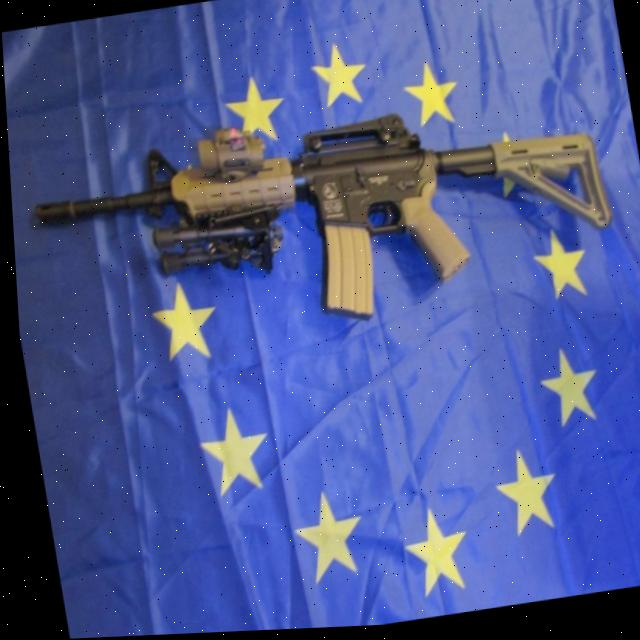firearm: (21, 78, 621, 362)
